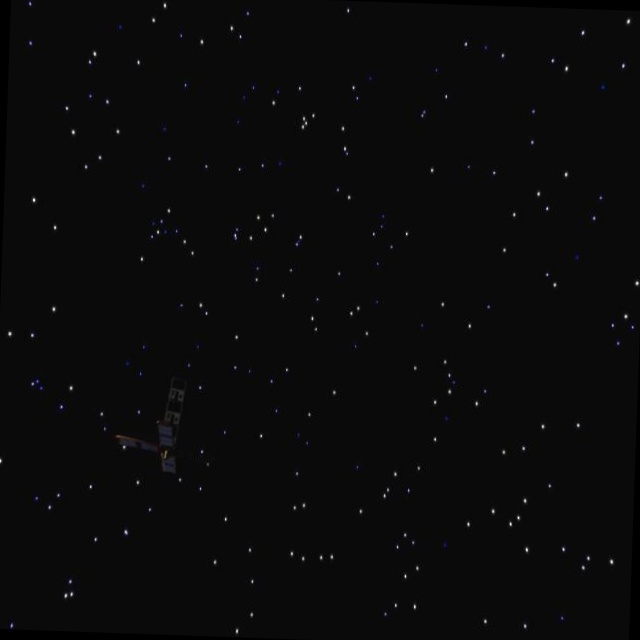medium_debris: (115, 374, 201, 480)
